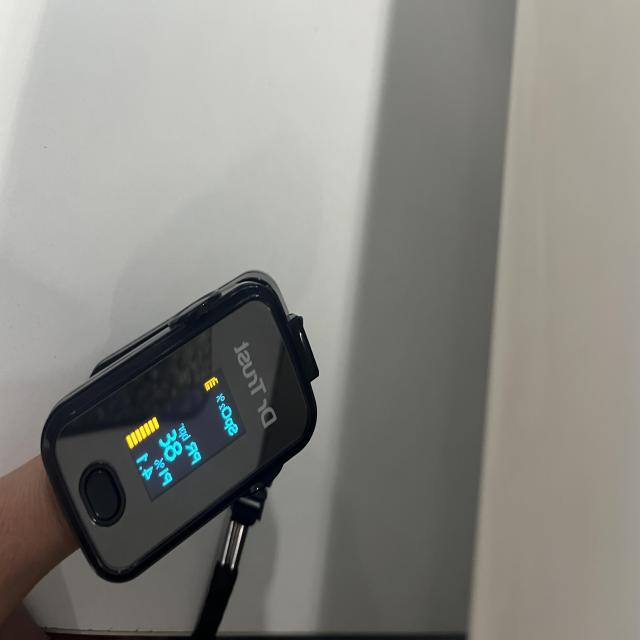bp: (39, 272, 317, 608)
